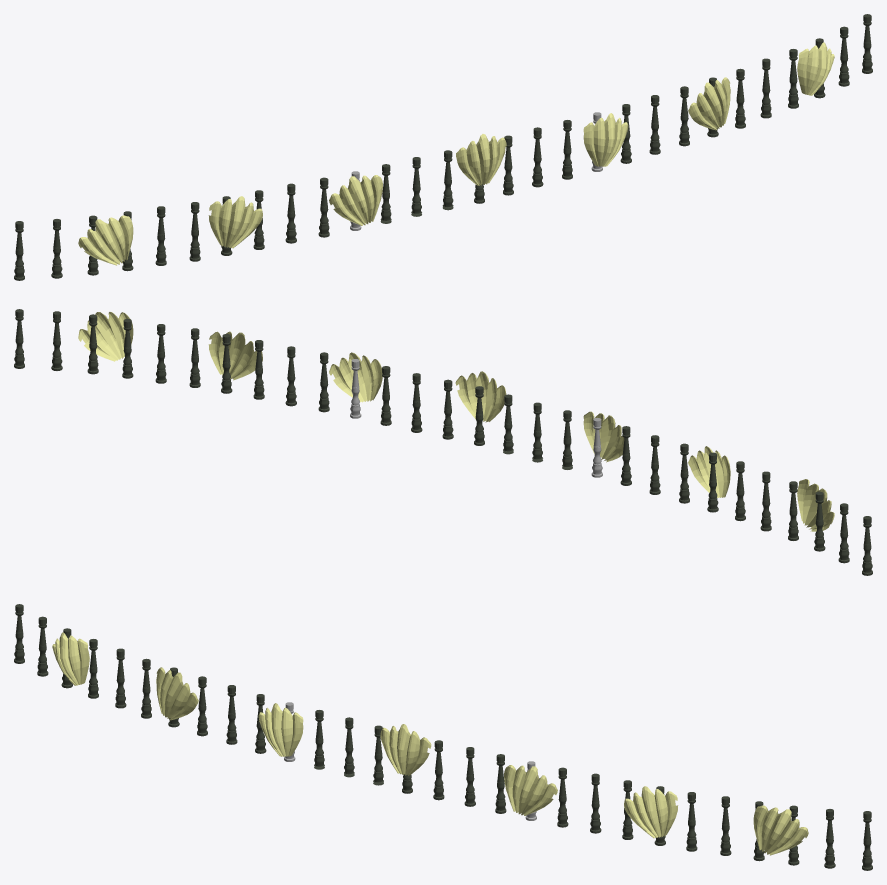
The model's file is Mesh Shell 2.fbx.
The picture shows the model from 3 angles, top to bottom: view 1: azimuth 30°, elevation 25°; view 2: azimuth 150°, elevation 25°; view 3: azimuth 330°, elevation 25°; orthographic projection.
Visible parts, largest first — view 1: Shells1; view 2: Shells1; view 3: Shells1.
Part boxes in pixels (x1,y1,x2,y2): Shells1: (14,14,872,280); Shells1: (14,309,872,575); Shells1: (14,604,872,870).
Bounding box in the file's own units: 4599 × 359 × 442.
